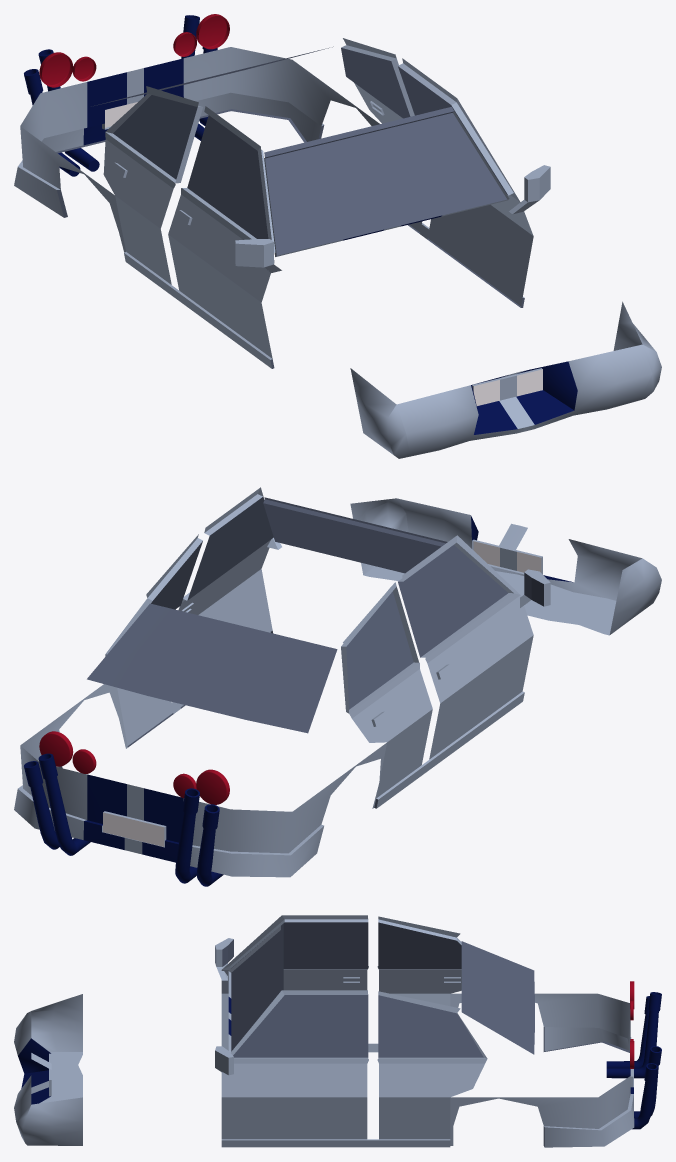
File: car1Bumper3.fbx
3 renders of one model, top to bottom at view 1: azimuth 30°, elevation 25°; view 2: azimuth 150°, elevation 25°; view 3: azimuth 270°, elevation 25°, orthographic. The views are drawn at different scales.
Visible parts, largest first — view 1: Bumper3; view 2: Bumper3; view 3: Bumper3.
Boxes of the visible parts, x1=… form: Bumper3: x1=14, y1=14, x2=661, y2=458; Bumper3: x1=14, y1=487, x2=661, y2=886; Bumper3: x1=14, y1=915, x2=661, y2=1147.
Bounding box in the file's own units: 2.81 × 1.61 × 6.42.
